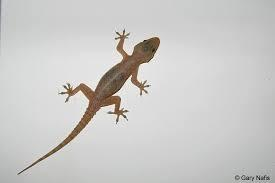lizard: (13, 27, 161, 176)
